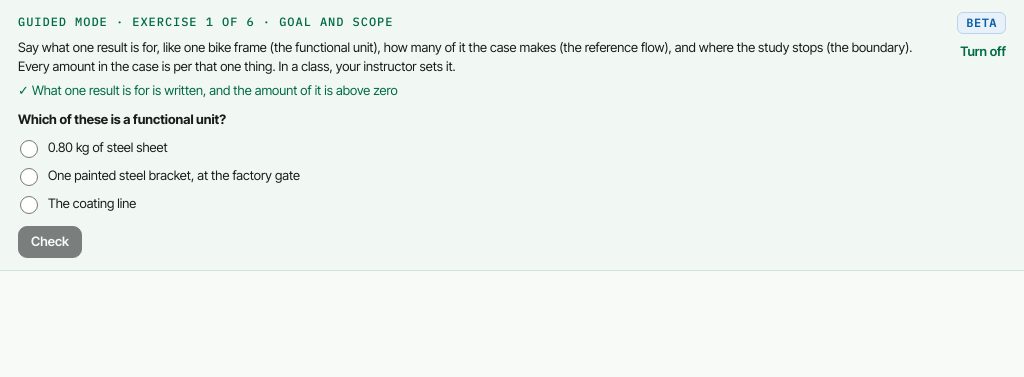
Test: exercise card › exercise 1: the check, the bracket question, Right with its reason, then Next
Expected: the text "Guided mode · Exercise 1 of 6 · Goal and scope" is shown, left=18, top=14, right=393, bottom=29
Step 1. Click the radio button labelled "One painted steel bracket, at the factory gate" → click(29, 176), box left=20, top=168, right=38, bottom=186
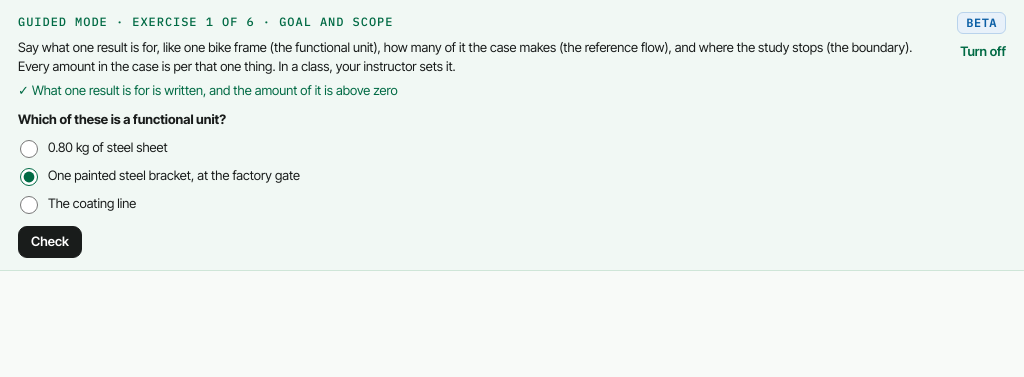
Step 2. Click the button "Check" → click(50, 242), box left=18, top=226, right=82, bottom=258
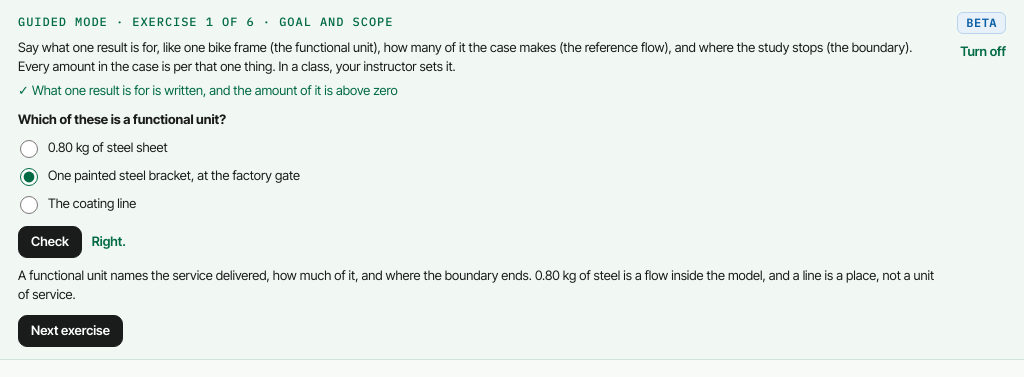
Result: the text "Right." is shown at left=92, top=232, right=126, bottom=251
Result: the text "a line is a place, not a unit of service" is shown at left=18, top=266, right=934, bottom=302
Step 3. Click the button "Next exercise" → click(70, 330), box left=18, top=314, right=123, bottom=346
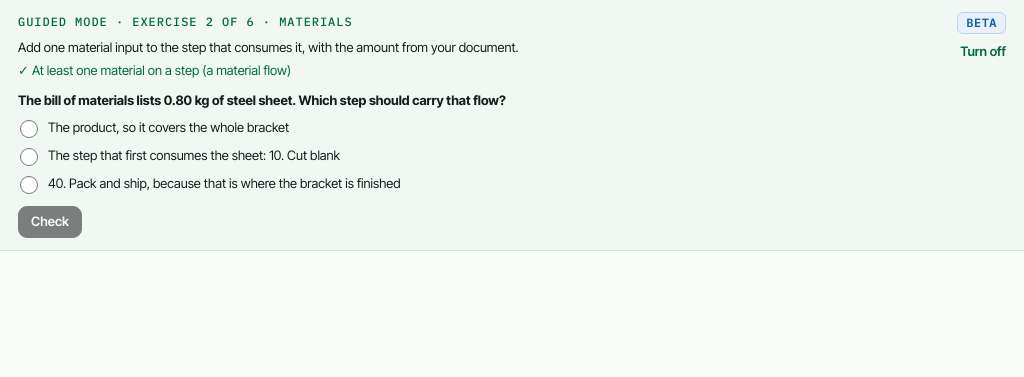
Result: the text "Guided mode · Exercise 2 of 6 · Materials" is shown at left=18, top=14, right=353, bottom=29
